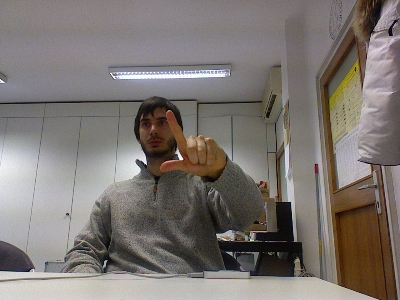枪: (158, 108, 228, 179)
